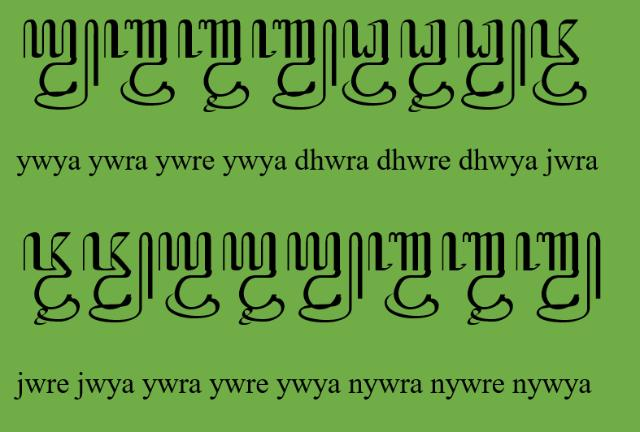dhwr: (342, 18, 396, 106)
dhwre: (400, 19, 454, 113)
dhwy: (458, 19, 524, 111)
jwr: (530, 18, 588, 106)
jwre: (23, 232, 81, 326)
jwy: (82, 231, 154, 323)
nywr: (103, 18, 175, 106), (367, 232, 439, 319)
nywre: (177, 19, 249, 113), (442, 232, 512, 326)
nywy: (251, 18, 339, 110), (515, 232, 601, 324)
ywr: (158, 232, 220, 320)
ywre: (222, 232, 284, 326)
ywy: (23, 19, 99, 111), (288, 232, 364, 324)
